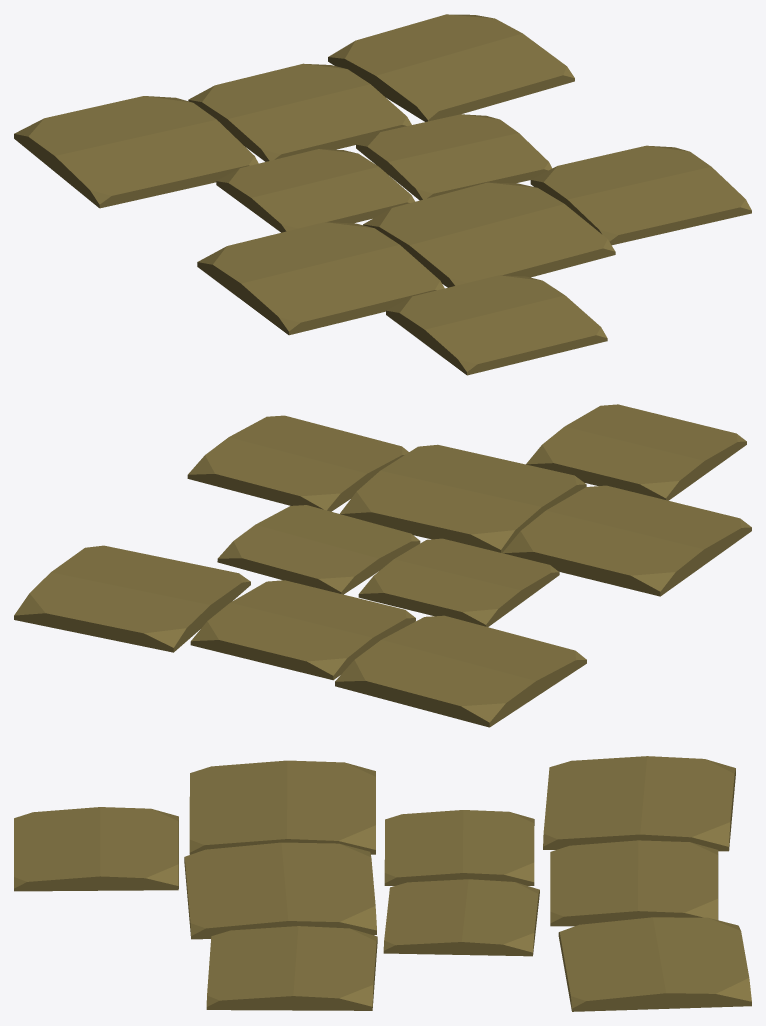
Rendered from OutsideTiles2.fbx.
3 views of the same model, one above another, from view 1: azimuth 30°, elevation 25°; view 2: azimuth 150°, elevation 25°; view 3: azimuth 270°, elevation 25° (orthographic).
Parts seen in each view (by area): view 1: OutsideTiles2; view 2: OutsideTiles2; view 3: OutsideTiles2.
Boxes of the visible parts, x1,y1,x2,y2 form: OutsideTiles2: (14,14,751,375); OutsideTiles2: (14,404,751,727); OutsideTiles2: (14,756,751,1011).
Bounding box in the file's own units: 82.18 × 2.72 × 106.
